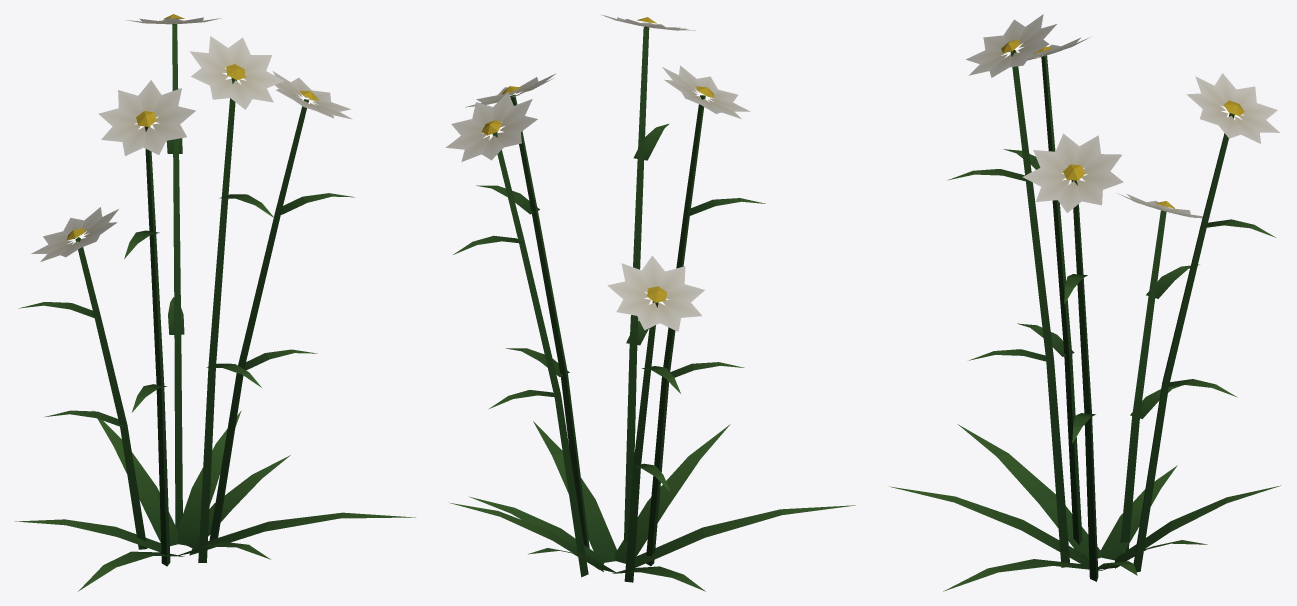
File: flowers_daisy_a.glb
The picture shows the model from 3 angles, left to right: view 1: azimuth 30°, elevation 25°; view 2: azimuth 150°, elevation 25°; view 3: azimuth 270°, elevation 25°; orthographic projection. The views are drawn at different scales.
Visible parts, largest first — view 1: flowers_daisy_a; view 2: flowers_daisy_a; view 3: flowers_daisy_a.
Boxes of the visible parts, left/top/right/bottom form: flowers_daisy_a: left=15, top=14, right=415, bottom=591; flowers_daisy_a: left=445, top=14, right=855, bottom=591; flowers_daisy_a: left=890, top=14, right=1280, bottom=591.
Size of the model in its own units: 0.3173 by 0.4826 by 0.3175.
